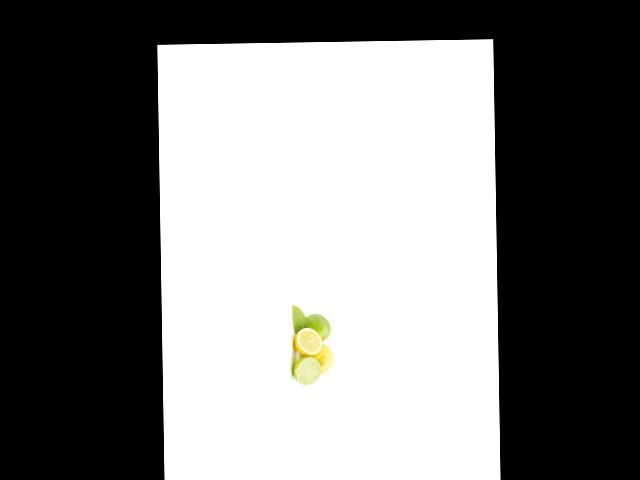lemon: (311, 344, 336, 375)
